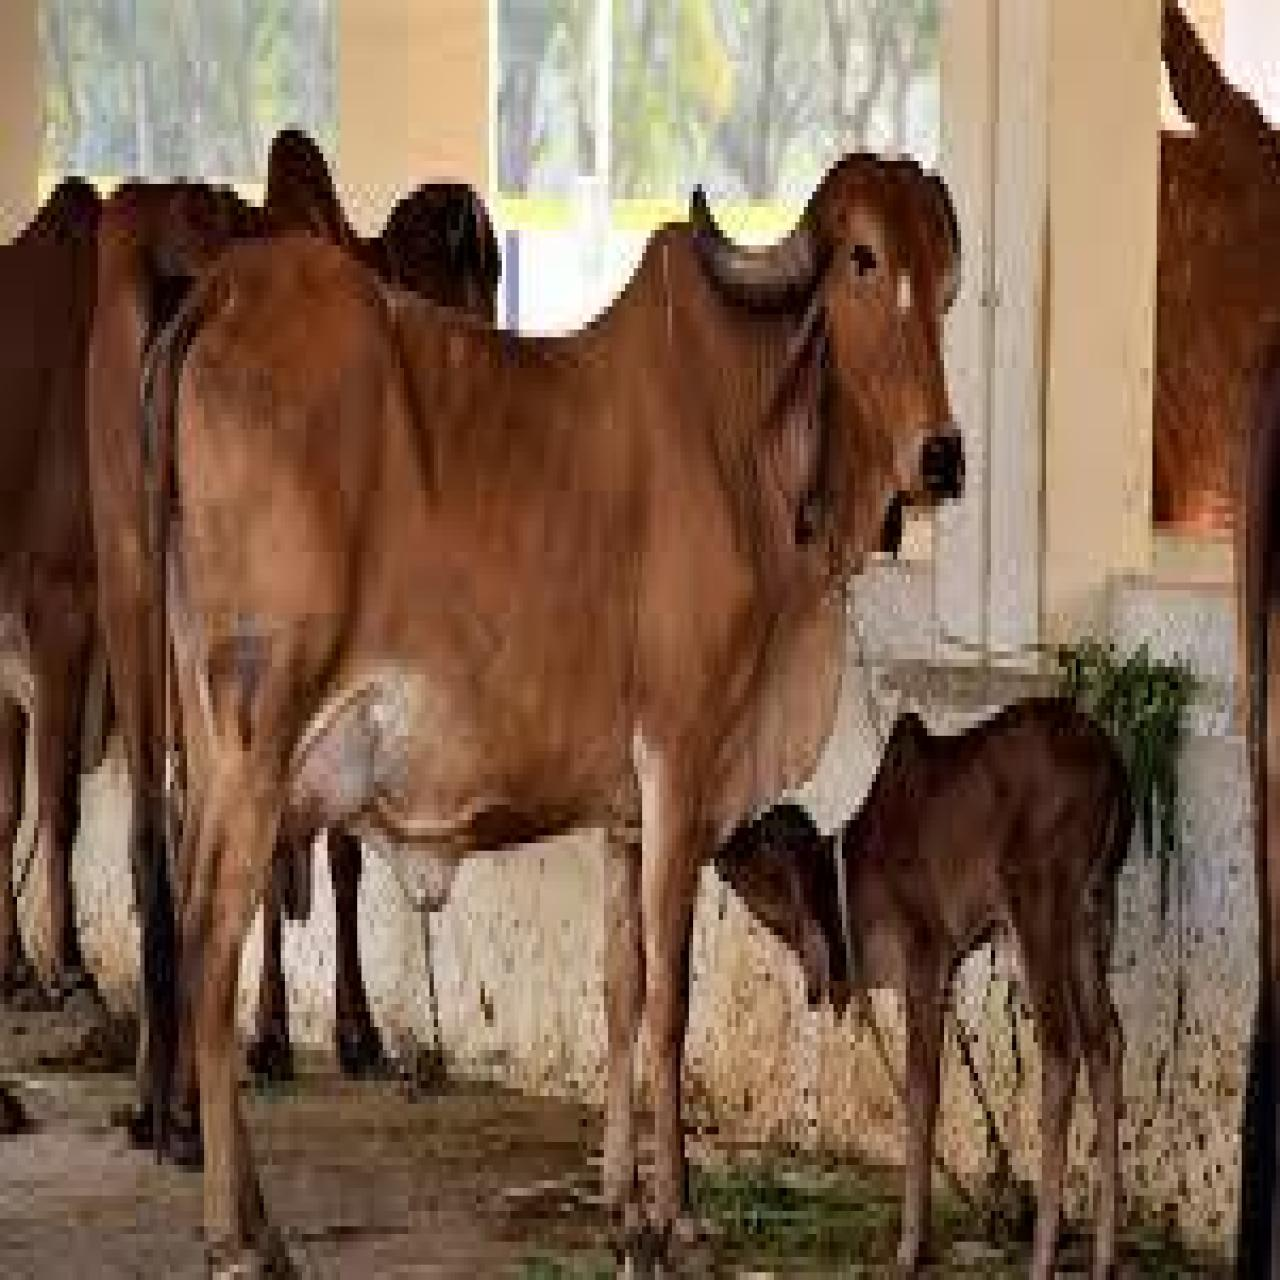cow: (147, 168, 959, 1280), (721, 704, 1133, 1280)
